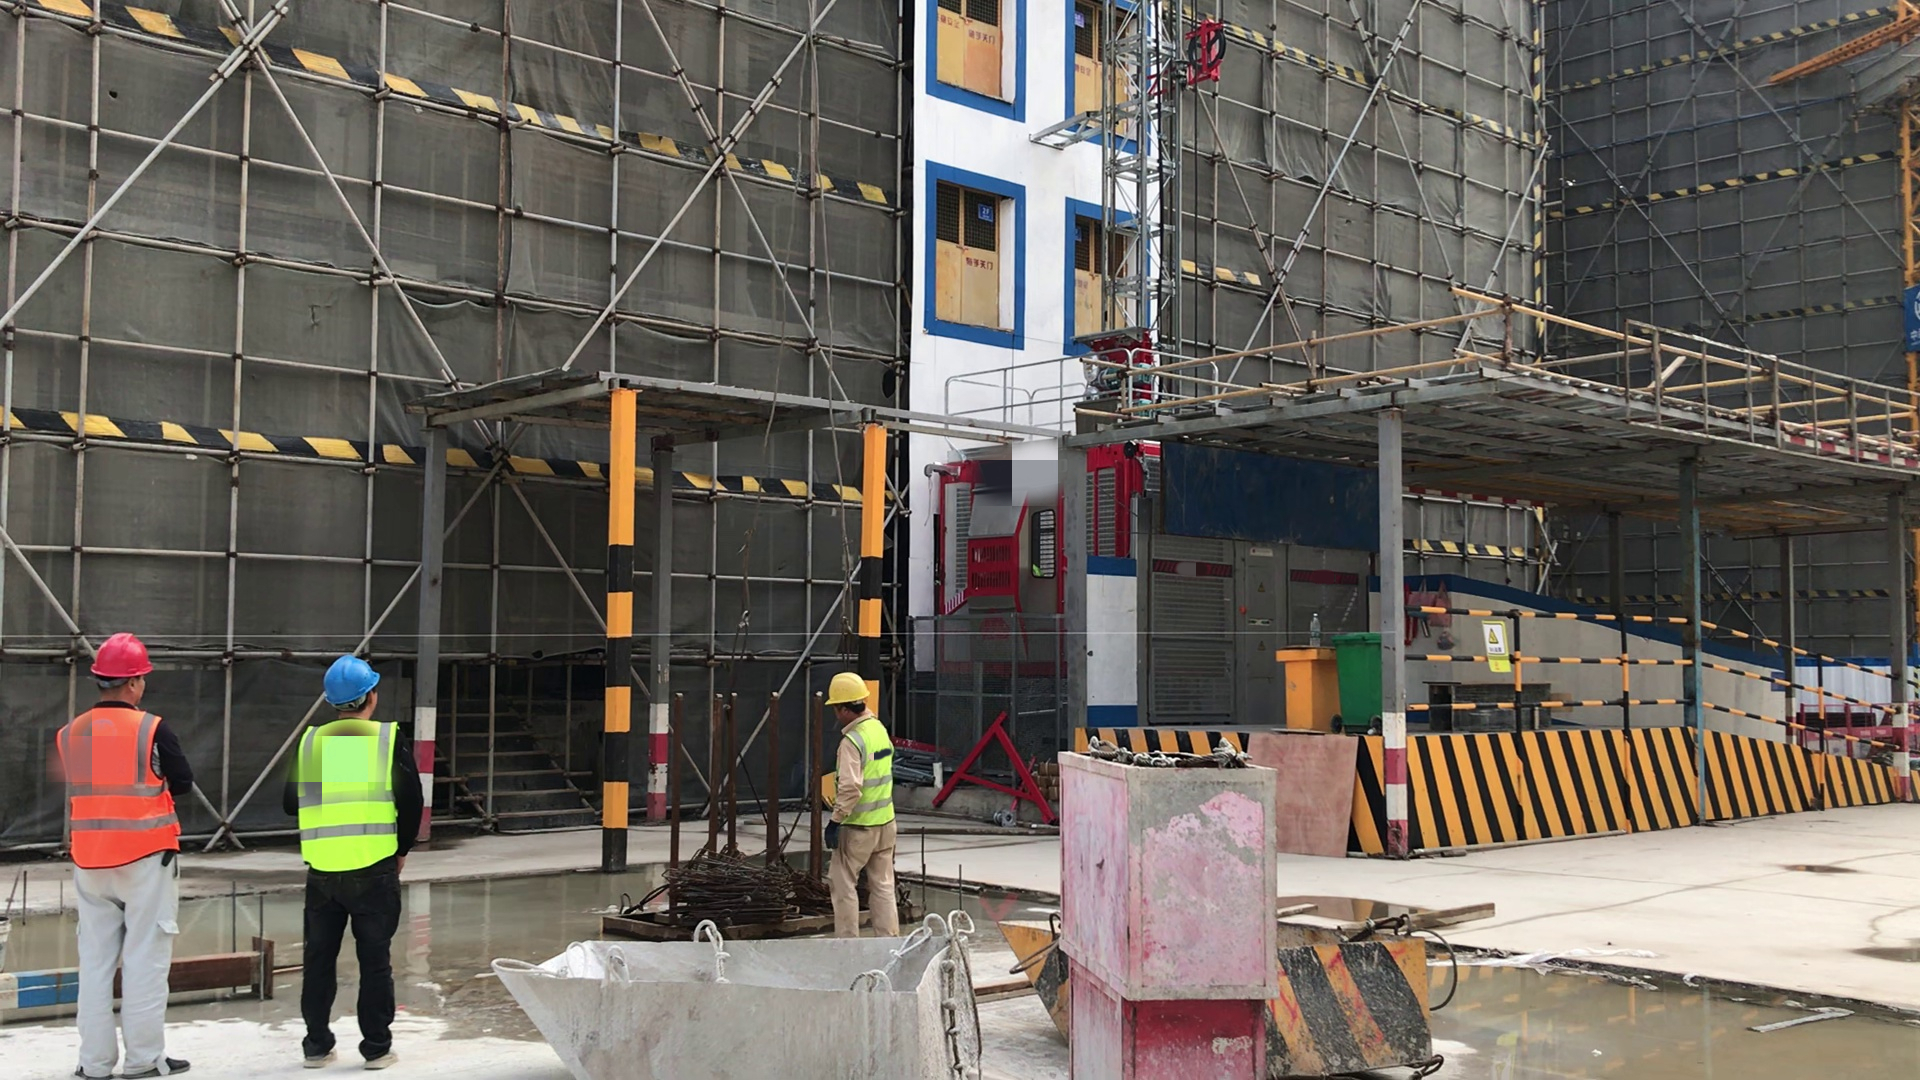fence: (1372, 571, 1915, 772)
helmet: (86, 633, 158, 686), (318, 652, 389, 701), (829, 673, 874, 708)
hopper: (1006, 901, 1499, 1078), (492, 906, 956, 1080)
person: (56, 627, 199, 1080), (288, 644, 432, 1080), (820, 672, 910, 941)
slogan: (1477, 621, 1521, 692)
vest: (53, 702, 192, 875), (291, 718, 401, 879), (835, 714, 901, 835)
